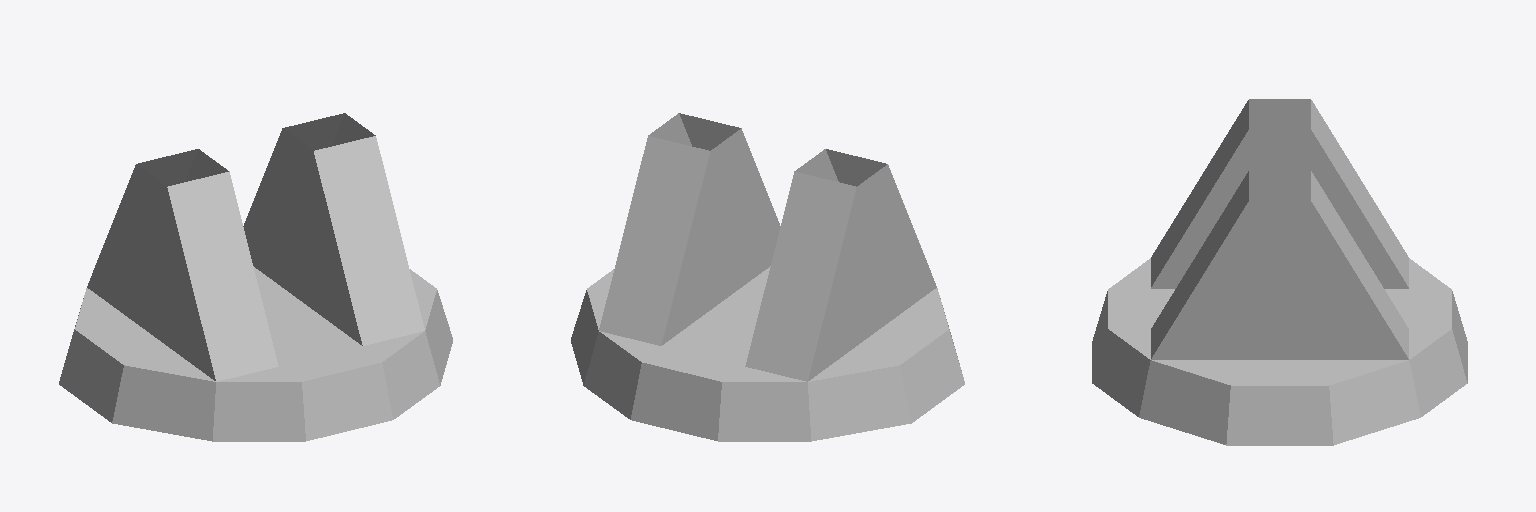
Rendered from turret.obj.
3 renders of one model, left to right at view 1: azimuth 30°, elevation 25°; view 2: azimuth 150°, elevation 25°; view 3: azimuth 270°, elevation 25°, orthographic.
Visible parts, largest first — view 1: turret; view 2: turret; view 3: turret.
Boxes of the visible parts, x1,y1,x2,y2 form: turret: [59, 113, 452, 441]; turret: [571, 113, 964, 441]; turret: [1092, 99, 1467, 445].
Size of the model in its own units: 8.88 by 5.28 by 8.45.